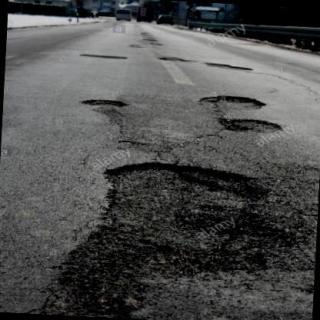pothole: (44, 164, 316, 320), (218, 118, 283, 133), (198, 96, 266, 110), (80, 99, 129, 108)
